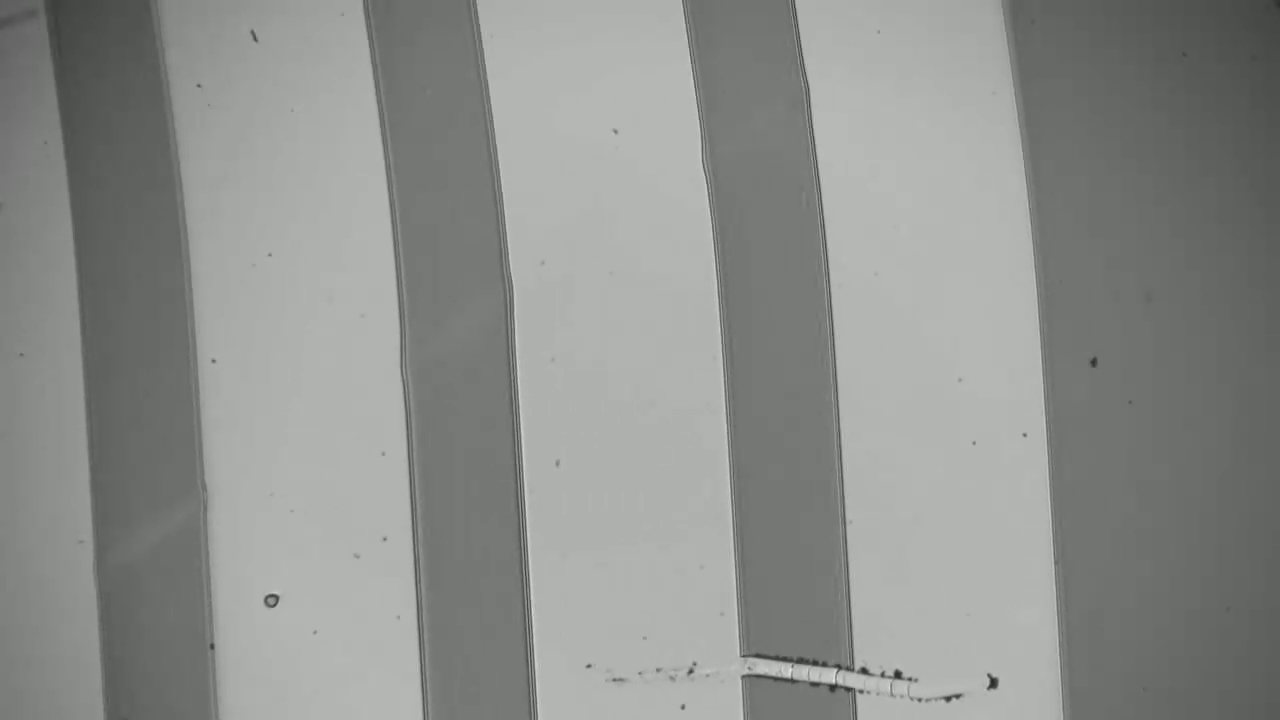Short_circuit: (694, 626, 886, 713)
